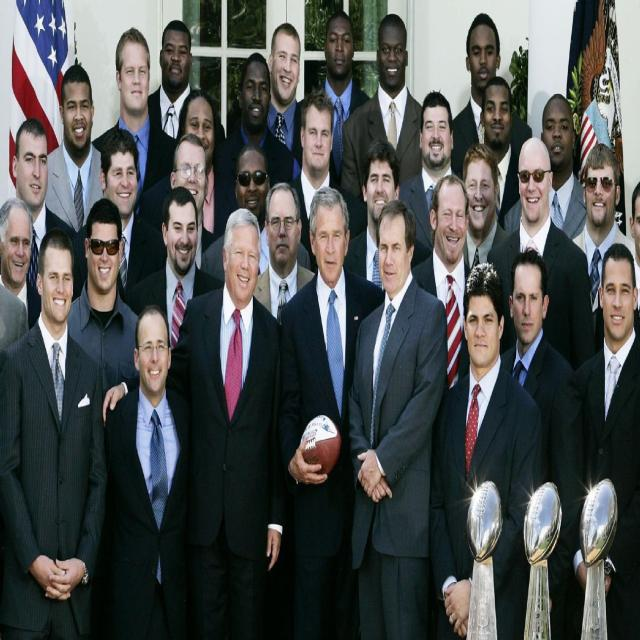body: (100, 198, 297, 639), (277, 184, 385, 639), (424, 256, 549, 639), (344, 192, 451, 639), (0, 222, 113, 639), (496, 246, 583, 640), (101, 300, 193, 638), (571, 240, 640, 639), (490, 136, 595, 372), (338, 8, 427, 247), (71, 127, 168, 320), (91, 24, 179, 236), (124, 183, 225, 354), (198, 137, 312, 285), (67, 196, 141, 404), (447, 9, 534, 185), (501, 92, 594, 248), (341, 136, 431, 292), (410, 173, 472, 396), (144, 89, 237, 234), (11, 117, 76, 294), (221, 52, 302, 194), (40, 61, 106, 232), (286, 87, 355, 250), (570, 140, 635, 311), (318, 7, 374, 191), (455, 75, 521, 231), (396, 87, 456, 254), (252, 181, 316, 322), (169, 132, 218, 272), (266, 20, 308, 183), (459, 141, 509, 274), (147, 15, 195, 143), (0, 196, 43, 334), (0, 271, 34, 359), (620, 178, 640, 309)
